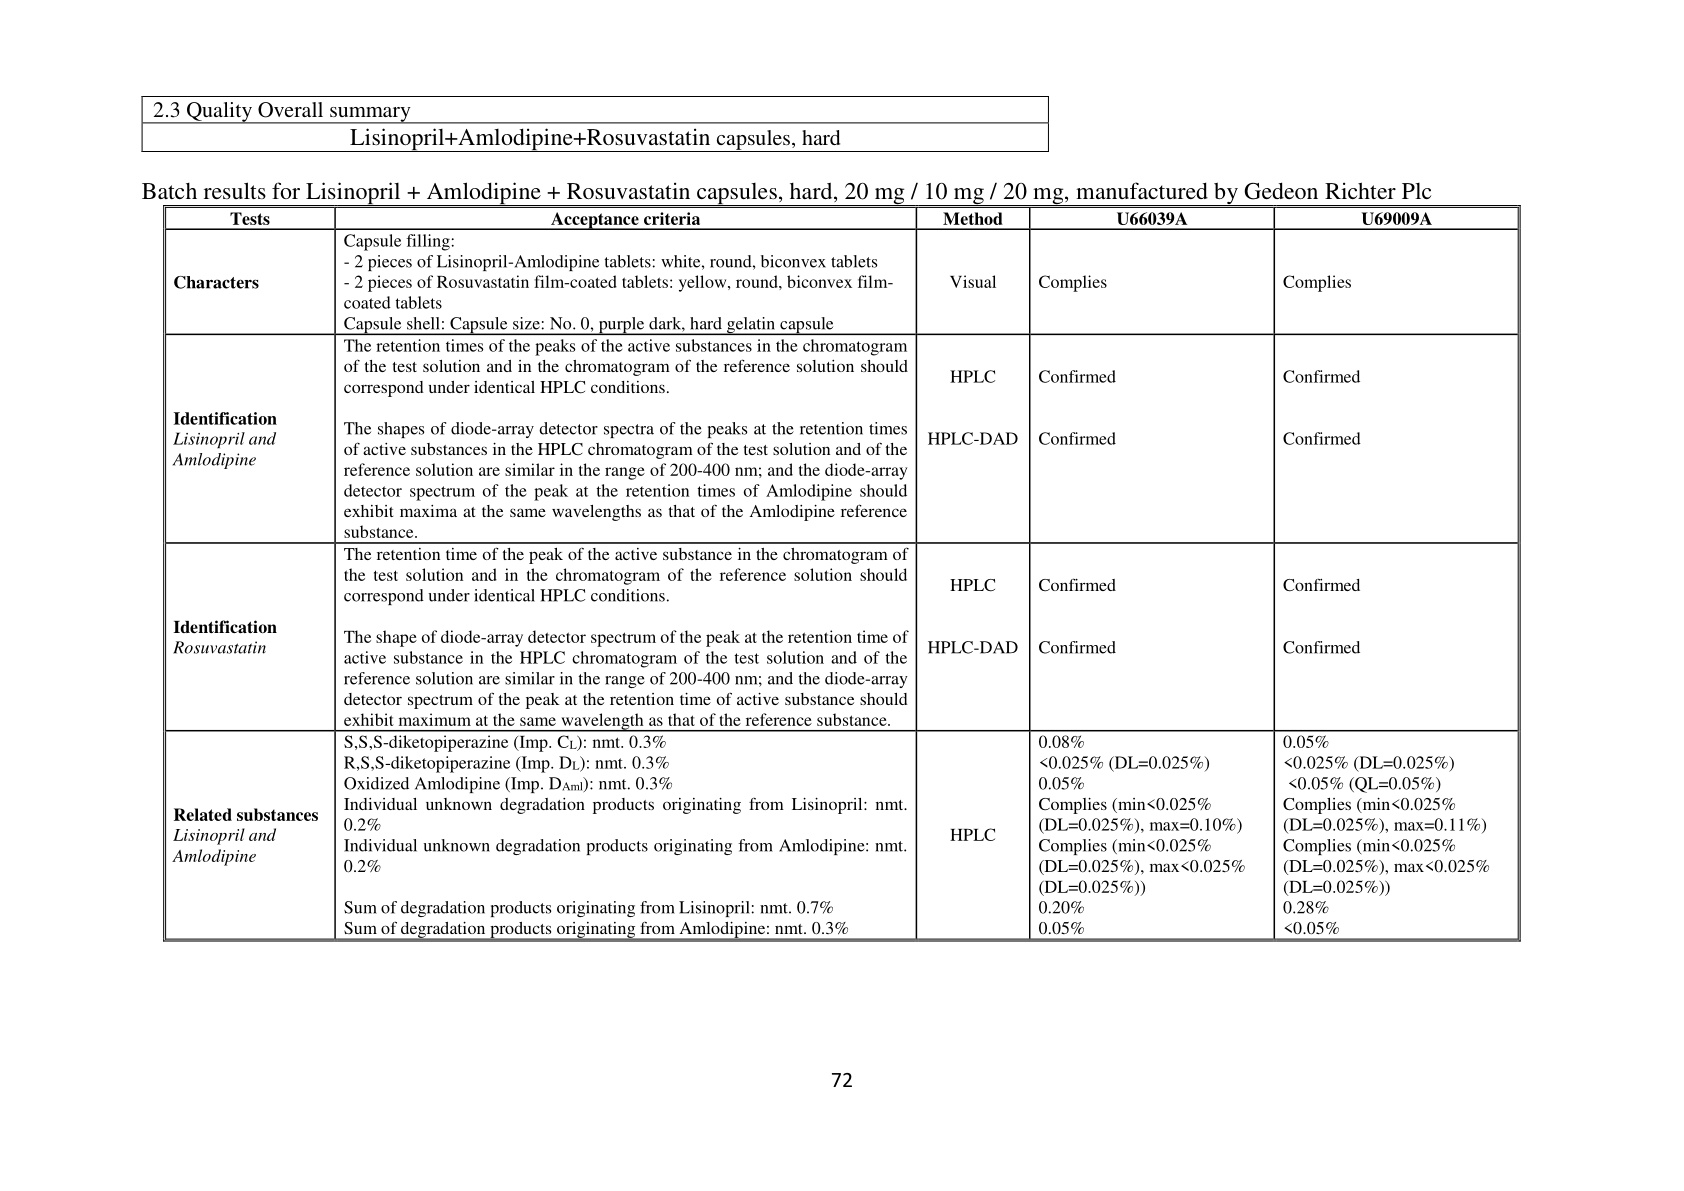full_lined: (164, 204, 1520, 940), (140, 94, 1050, 153)
